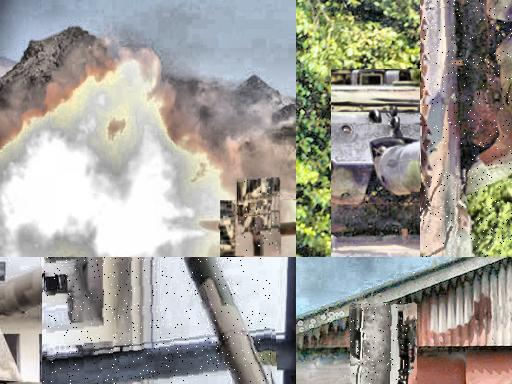tanks: (421, 1, 512, 258), (184, 258, 270, 384), (351, 303, 416, 384), (238, 179, 280, 256)
